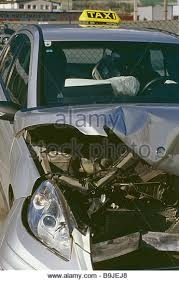Broken-glass: (24, 177, 76, 255)
Smashed: (13, 105, 179, 270)
